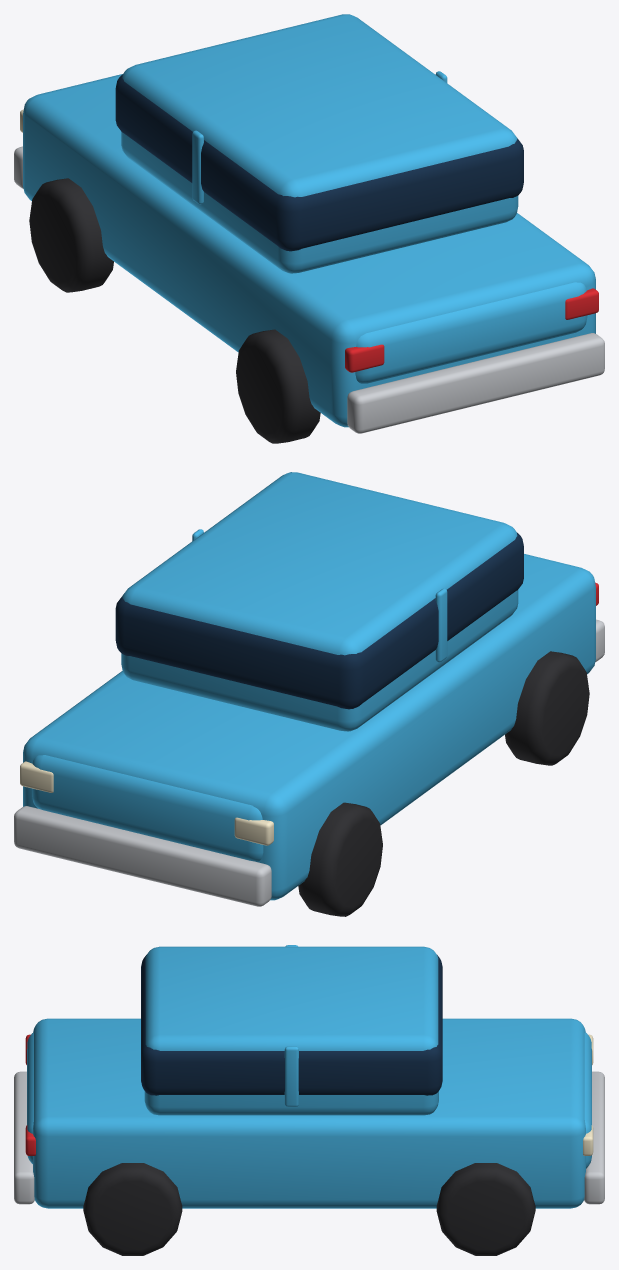
File: sedan-skyblue.glb
3 renders of one model, top to bottom at view 1: azimuth 30°, elevation 25°; view 2: azimuth 150°, elevation 25°; view 3: azimuth 270°, elevation 25°, orthographic. The views are drawn at different scales.
Parts seen in each view (by area): view 1: Sedan_Body, Sedan_Cabin, Sedan_GlassBand, Sedan_BumpR, Sedan_Trunk, Wheel_2V_Sedan, Wheel_0V_Sedan, Sedan_Tail_0, Sedan_Tail_1, Sedan_Bpil_-1; view 2: Sedan_Body, Sedan_Cabin, Sedan_GlassBand, Sedan_Hood, Sedan_BumpF, Wheel_0V_Sedan, Wheel_2V_Sedan, Sedan_Light_0, Sedan_Bpil_-1, Sedan_Light_1; view 3: Sedan_Body, Sedan_Cabin, Sedan_GlassBand, Wheel_1V_Sedan, Wheel_3V_Sedan, Sedan_BumpR, Sedan_BumpF, Sedan_Bpil_+1, Sedan_Hood, Sedan_Trunk.
Part boxes in pixels (x1,y1,x2,y2): Sedan_Body: [23, 74, 595, 427]; Sedan_Cabin: [121, 14, 518, 273]; Sedan_GlassBand: [115, 74, 523, 251]; Sedan_BumpR: [347, 333, 604, 433]; Sedan_Trunk: [355, 282, 587, 383]; Wheel_2V_Sedan: [236, 329, 320, 443]; Wheel_0V_Sedan: [29, 178, 113, 292]; Sedan_Tail_0: [345, 344, 384, 372]; Sedan_Tail_1: [565, 288, 598, 319]; Sedan_Bpil_-1: [192, 130, 203, 204]; Sedan_Body: [23, 554, 595, 900]; Sedan_Cabin: [121, 472, 518, 731]; Sedan_GlassBand: [115, 532, 523, 709]; Sedan_Hood: [32, 755, 263, 861]; Sedan_BumpF: [14, 806, 271, 906]; Wheel_0V_Sedan: [298, 802, 382, 916]; Wheel_2V_Sedan: [505, 651, 589, 765]; Sedan_Light_0: [234, 817, 273, 845]; Sedan_Bpil_-1: [435, 588, 447, 662]; Sedan_Light_1: [20, 761, 53, 792]; Sedan_Body: [33, 1018, 585, 1208]; Sedan_Cabin: [144, 946, 438, 1115]; Sedan_GlassBand: [141, 955, 442, 1095]; Wheel_1V_Sedan: [436, 1163, 535, 1255]; Wheel_3V_Sedan: [83, 1163, 182, 1255]; Sedan_BumpR: [14, 1071, 34, 1204]; Sedan_BumpF: [584, 1071, 604, 1204]; Sedan_Bpil_+1: [284, 1046, 298, 1106]; Sedan_Hood: [584, 1032, 591, 1168]; Sedan_Trunk: [27, 1032, 33, 1163].
Bounding box in the file's own units: 2.56 × 1.91 × 5.02.
